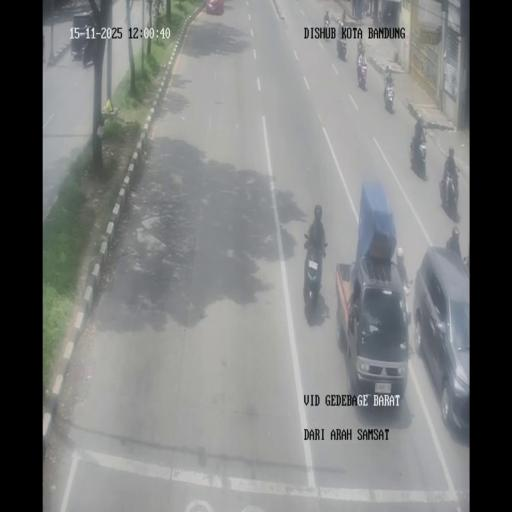car: (412, 248, 469, 435), (71, 11, 95, 60), (205, 0, 224, 15)
motorcycle: (302, 235, 326, 313), (440, 162, 460, 214), (410, 128, 426, 177), (382, 74, 396, 113), (357, 57, 367, 90), (338, 40, 346, 62), (462, 254, 470, 276), (338, 19, 345, 41), (357, 38, 364, 58), (323, 10, 330, 29), (362, 1, 369, 17), (378, 9, 384, 23), (342, 8, 346, 24)
truck: (336, 184, 409, 404)
